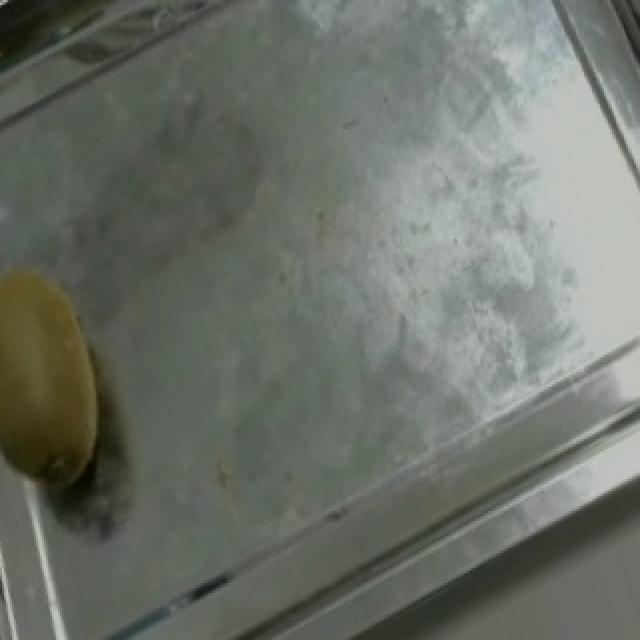Fruit: (0, 231, 150, 523)
